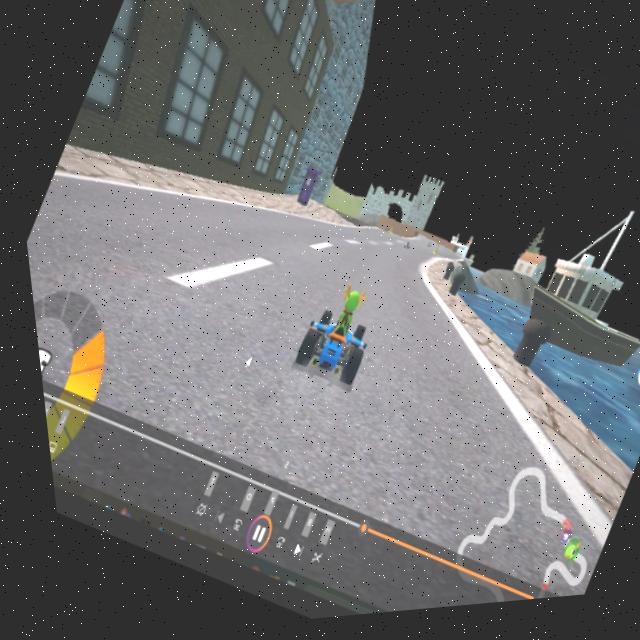enemy_kart: (390, 241, 413, 262)
obstacle: (419, 245, 439, 267)
player_kart: (272, 276, 391, 401)
track: (38, 164, 322, 411), (280, 207, 419, 308)
